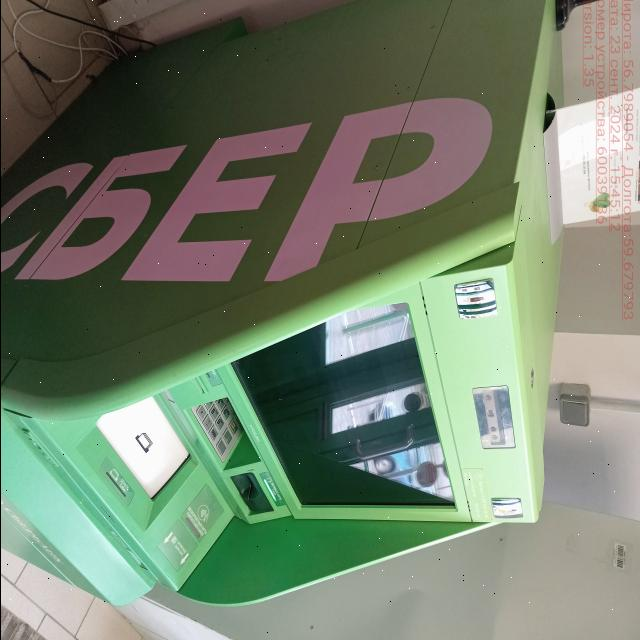bank: (0, 0, 568, 608)
